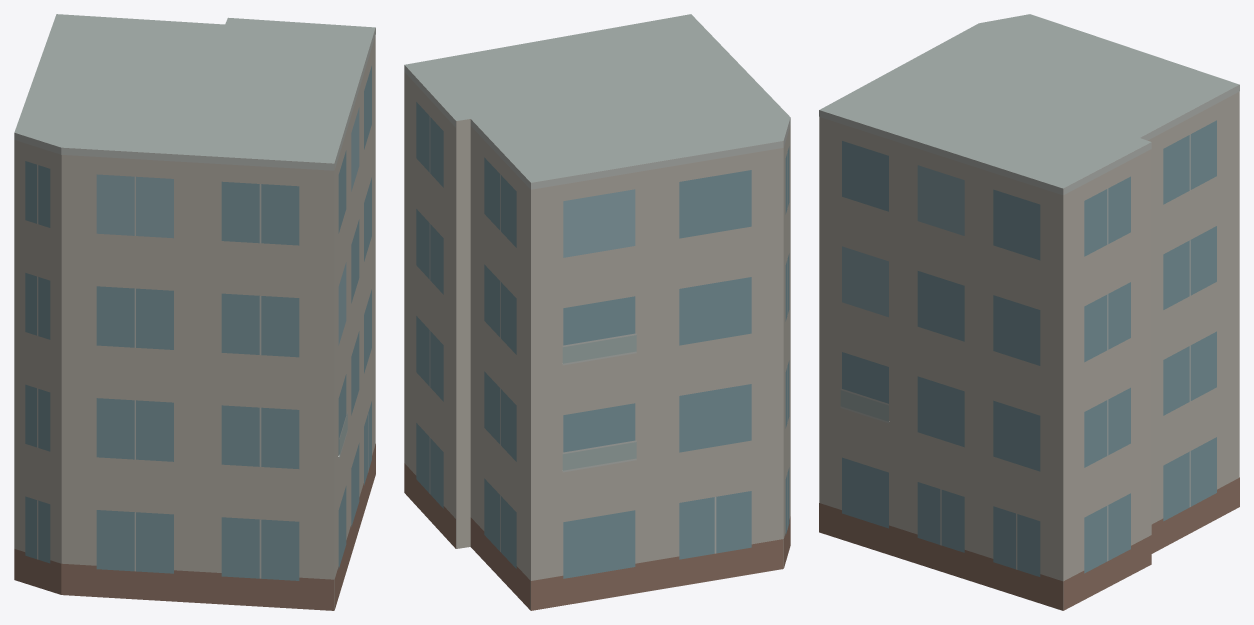
The model's file is survey-upis-32760478.glb.
3 renders of one model, left to right at view 1: azimuth 30°, elevation 25°; view 2: azimuth 150°, elevation 25°; view 3: azimuth 270°, elevation 25°, orthographic. The views are drawn at different scales.
Visible parts, largest first — view 1: survey-upis-32760478.tmp; view 2: survey-upis-32760478.tmp; view 3: survey-upis-32760478.tmp.
Part boxes in pixels (left/top/right/bottom): survey-upis-32760478.tmp: left=14, top=14, right=375, bottom=610; survey-upis-32760478.tmp: left=404, top=14, right=790, bottom=610; survey-upis-32760478.tmp: left=819, top=14, right=1239, bottom=610.
Bounding box in the file's own units: 13.48 × 15.2 × 13.73.
